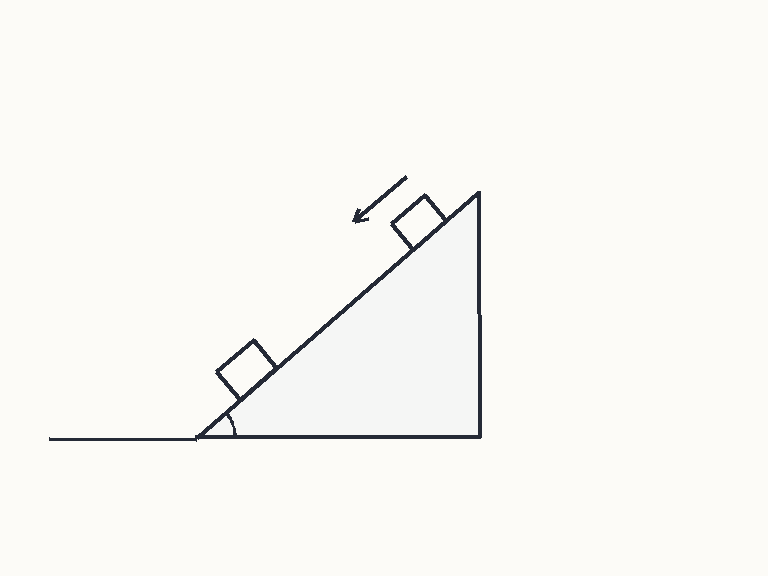block: (214, 338, 279, 401), (390, 193, 448, 251)
ramp: (193, 189, 481, 440)
